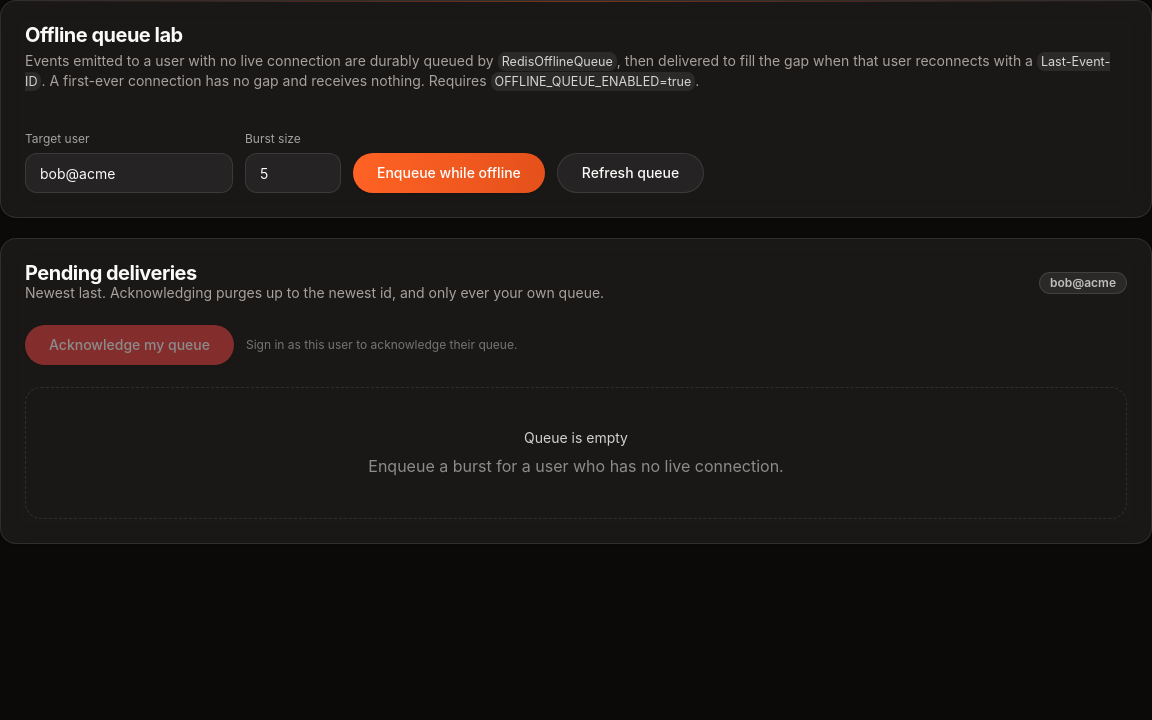
OfflineLabPage › surfaces the api error envelope when enqueuing is rejected
This screenshot has width=1152, height=720.
Check: the text "Queue is empty" is shown, box [524,429,628,446]
Click the button "Enqueue while offline".
click(449, 173)  # box [353,153,545,193]
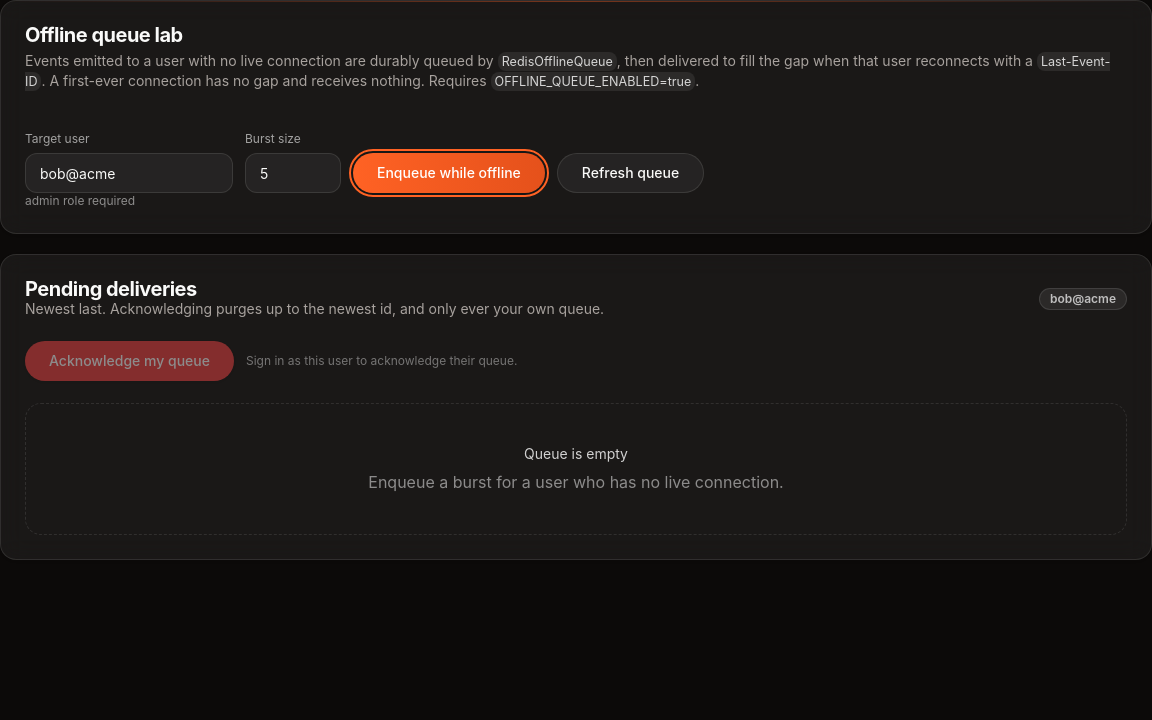
Check: the text "admin role required" is shown, box [25,193,135,208]
